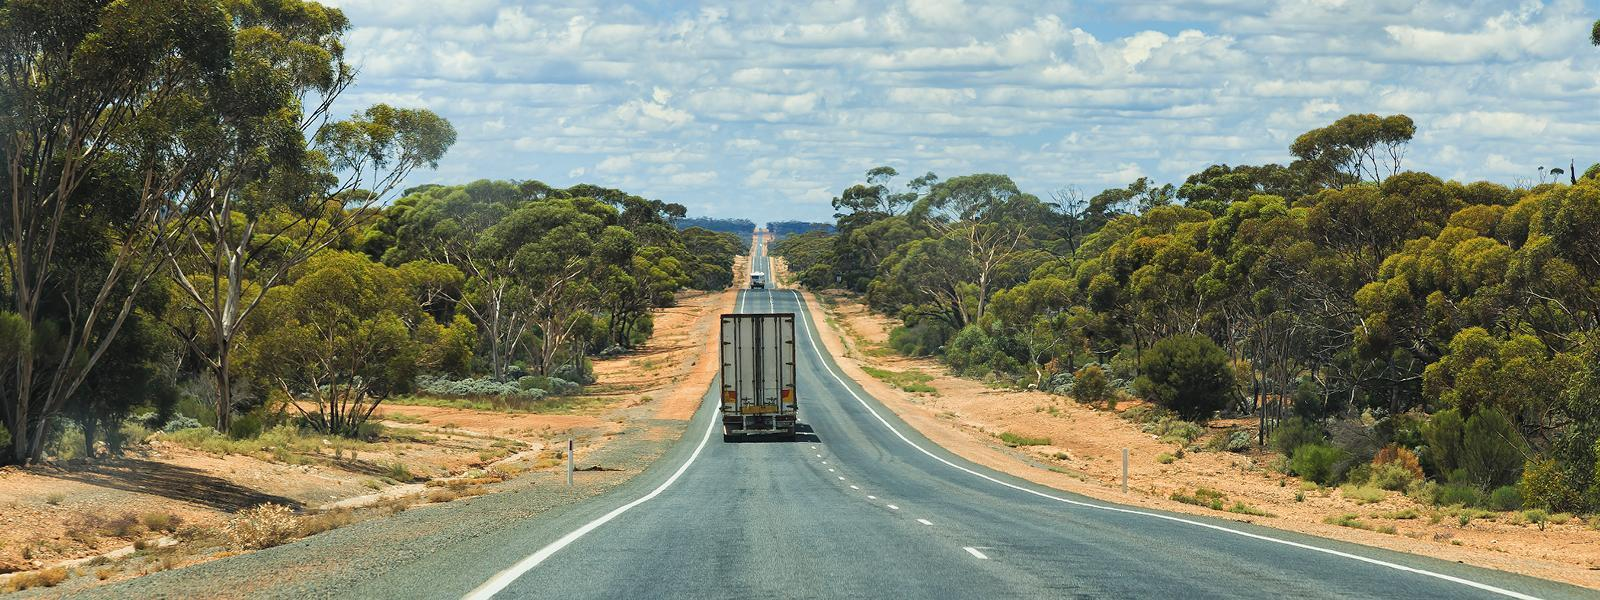car: (712, 309, 810, 445), (748, 269, 769, 297)
